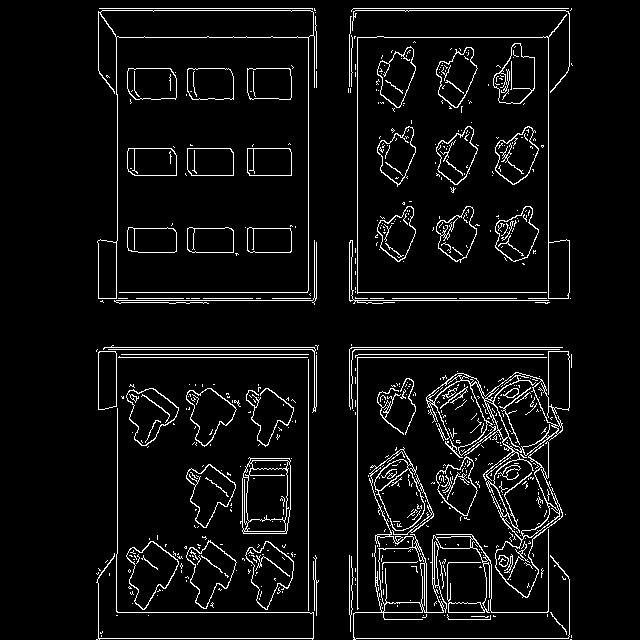Battery: (128, 68, 178, 100), (188, 69, 234, 100), (248, 68, 291, 100), (128, 148, 178, 175), (188, 148, 234, 176), (249, 148, 292, 176), (128, 228, 178, 252), (188, 228, 234, 253), (248, 226, 292, 252)
Pump: (484, 454, 562, 539), (486, 372, 562, 456), (428, 372, 494, 458), (369, 449, 434, 534), (432, 534, 490, 620), (375, 534, 426, 620), (242, 458, 291, 534)
Regulator: (122, 384, 179, 446), (434, 456, 480, 519), (496, 535, 541, 598), (188, 388, 236, 446), (436, 126, 478, 192), (492, 42, 535, 104), (495, 126, 539, 185), (434, 206, 478, 262), (495, 206, 539, 262), (438, 49, 478, 110), (378, 46, 416, 110), (378, 125, 416, 186), (376, 205, 416, 261), (378, 378, 416, 435)
Sensor: (129, 541, 181, 610), (188, 538, 236, 610), (242, 541, 292, 610), (124, 384, 179, 446), (186, 464, 236, 529), (248, 386, 295, 446), (188, 388, 236, 446)
